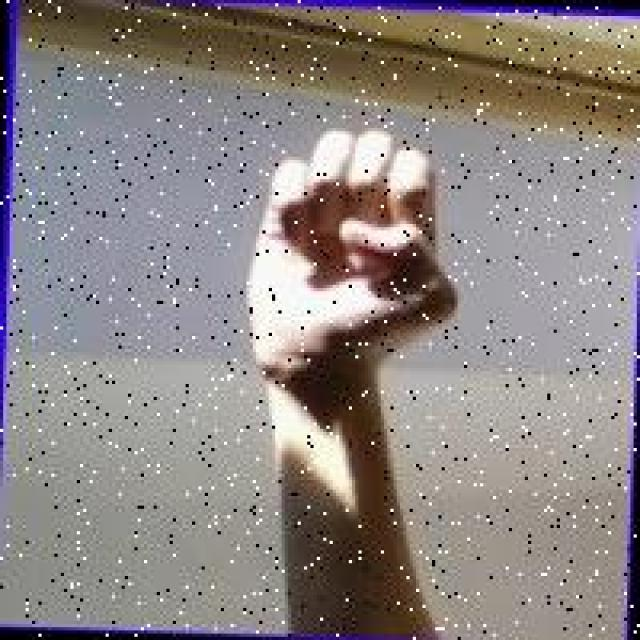E: (237, 117, 470, 389)
